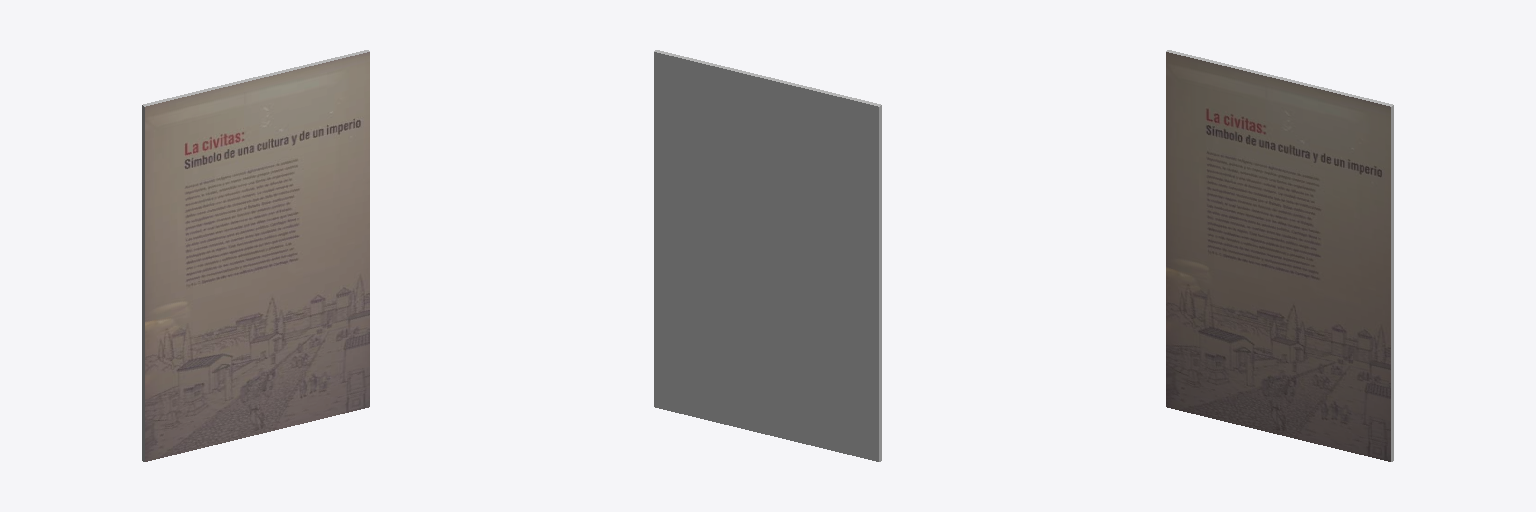
3 views of the same model, side by side, from view 1: azimuth 30°, elevation 25°; view 2: azimuth 150°, elevation 25°; view 3: azimuth 330°, elevation 25° (orthographic).
Visible parts, largest first — view 1: SketchUp.001_ID10, SketchUp_ID2; view 2: SketchUp_ID2; view 3: SketchUp.001_ID10, SketchUp_ID2.
Part boxes in pixels (bbox=[...]): SketchUp.001_ID10: bbox=[145, 52, 369, 461]; SketchUp_ID2: bbox=[142, 50, 369, 461]; SketchUp_ID2: bbox=[654, 50, 881, 461]; SketchUp.001_ID10: bbox=[1166, 52, 1390, 461]; SketchUp_ID2: bbox=[1166, 50, 1393, 461].
Size of the model in its own units: 188 by 283 by 3.94.
Materials: 2 (1 with a texture image).